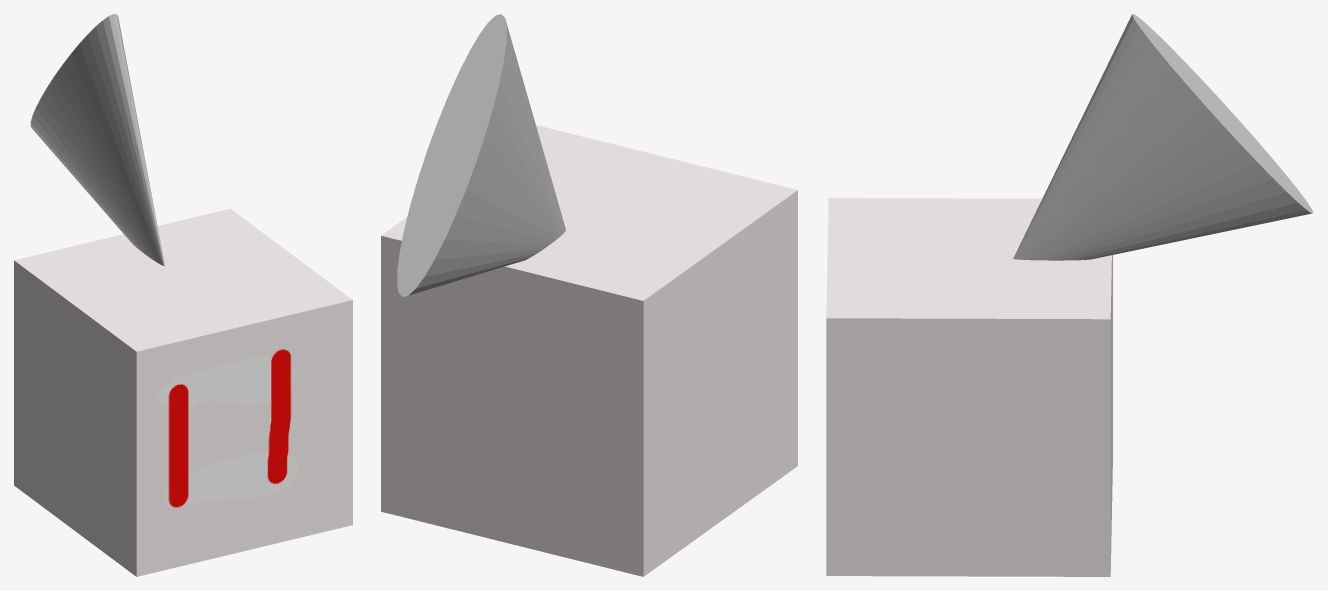
Rendered from player.obj.
The picture shows the model from 3 angles, left to right: view 1: azimuth 30°, elevation 25°; view 2: azimuth 150°, elevation 25°; view 3: azimuth 270°, elevation 25°; orthographic projection. The views are drawn at different scales.
Parts seen in each view (by area): view 1: Cube; view 2: Cube; view 3: Cube.
Boxes of the visible parts, x1,y1,x2,y2 form: Cube: [14, 14, 352, 576]; Cube: [381, 14, 797, 576]; Cube: [826, 14, 1313, 576].
Size of the model in its own units: 2.02 by 3.9 by 3.43.
